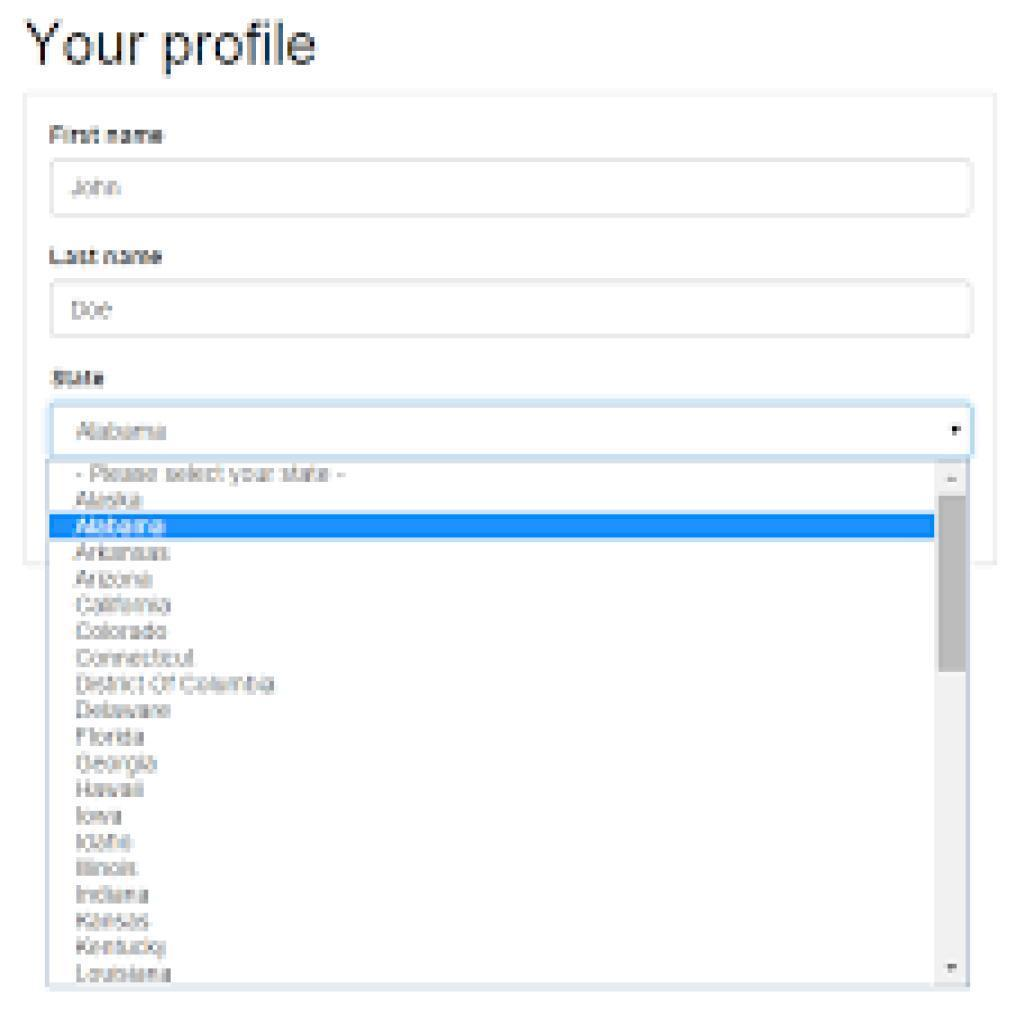dropdown: (50, 401, 971, 459)
input: (52, 280, 972, 340), (52, 157, 972, 217)
label: (46, 243, 166, 272), (45, 123, 166, 150), (41, 361, 115, 393)
